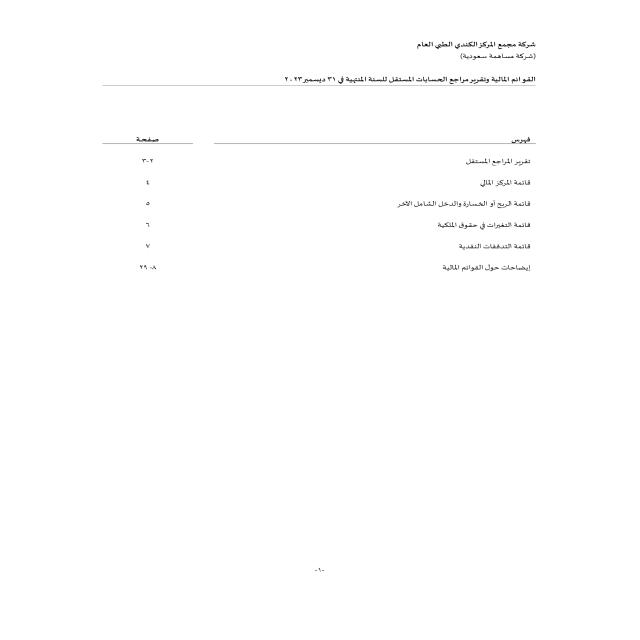other: (84, 125, 554, 298)
